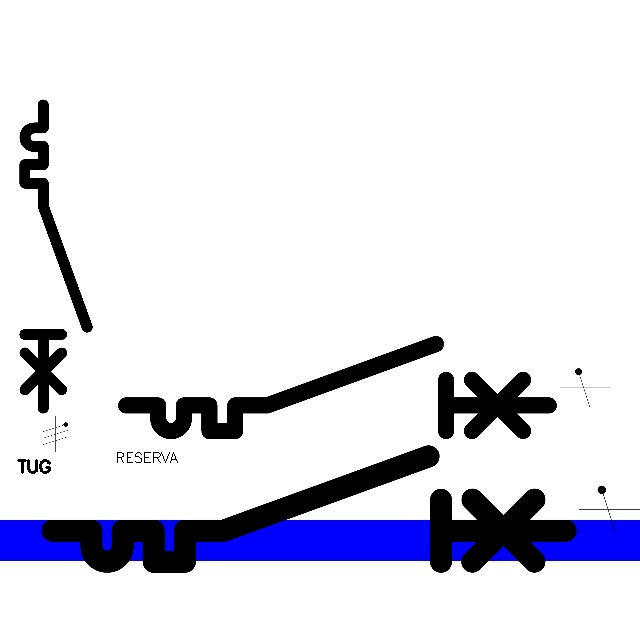interruptor_termomagnetico: (39, 443, 578, 575), (115, 333, 560, 442), (17, 97, 95, 416)
